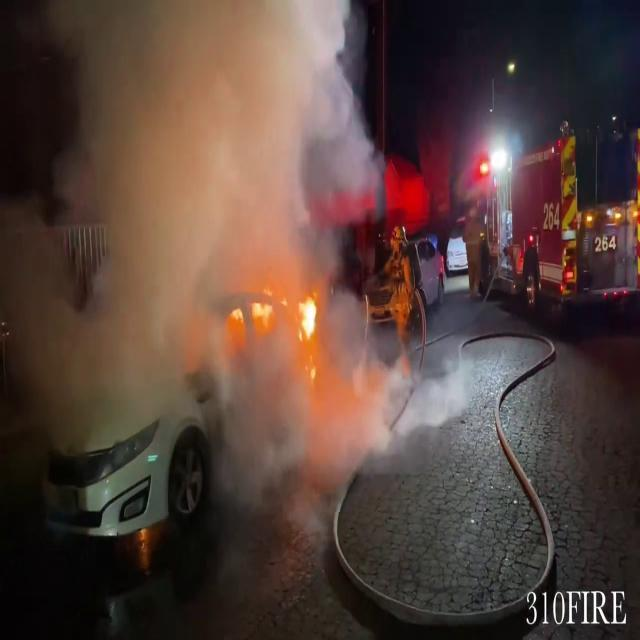Smoke: (0, 0, 389, 469)
